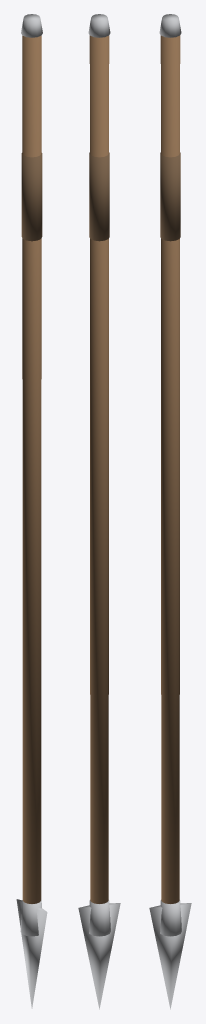
Rendered from speer.glb.
3 renders of one model, left to right at view 1: azimuth 90°, elevation 25°; view 2: azimuth 150°, elevation 25°; view 3: azimuth 330°, elevation 25°, orthographic.
Visible parts, largest first — view 1: Cone; view 2: Cone; view 3: Cone.
Part boxes in pixels (x1,y1,x2,y2): Cone: [16, 14, 47, 1008]; Cone: [78, 14, 120, 1009]; Cone: [149, 14, 191, 1009].
Bounding box in the file's own units: 0.0537 × 1.9 × 0.0537.
